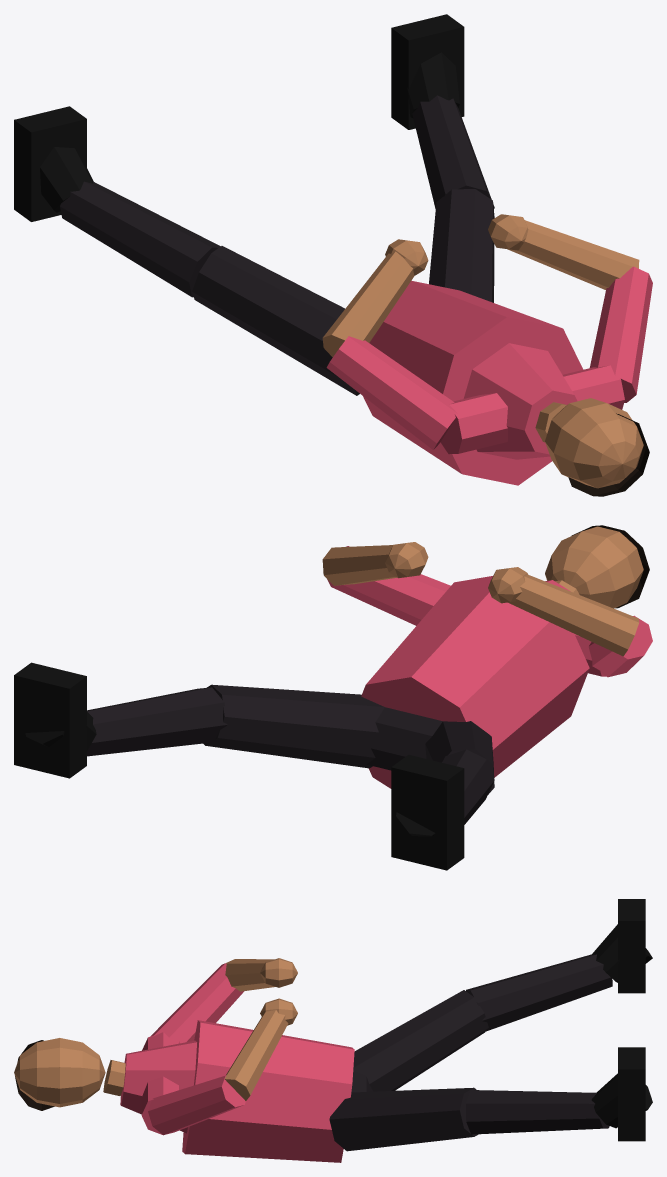
Rendered from dancer_06_low_bounce_cm.obj.
3 renders of one model, top to bottom at view 1: azimuth 30°, elevation 25°; view 2: azimuth 150°, elevation 25°; view 3: azimuth 270°, elevation 25°, orthographic. The views are drawn at different scales.
Visible parts, largest first — view 1: dancer_06_low_bounce; view 2: dancer_06_low_bounce; view 3: dancer_06_low_bounce.
Part boxes in pixels (box(x1,y1,x2,y2)): dancer_06_low_bounce: box(14, 14, 652, 496); dancer_06_low_bounce: box(14, 525, 652, 870); dancer_06_low_bounce: box(14, 899, 652, 1162).
Size of the model in its own units: 101 by 50.17 by 160.
